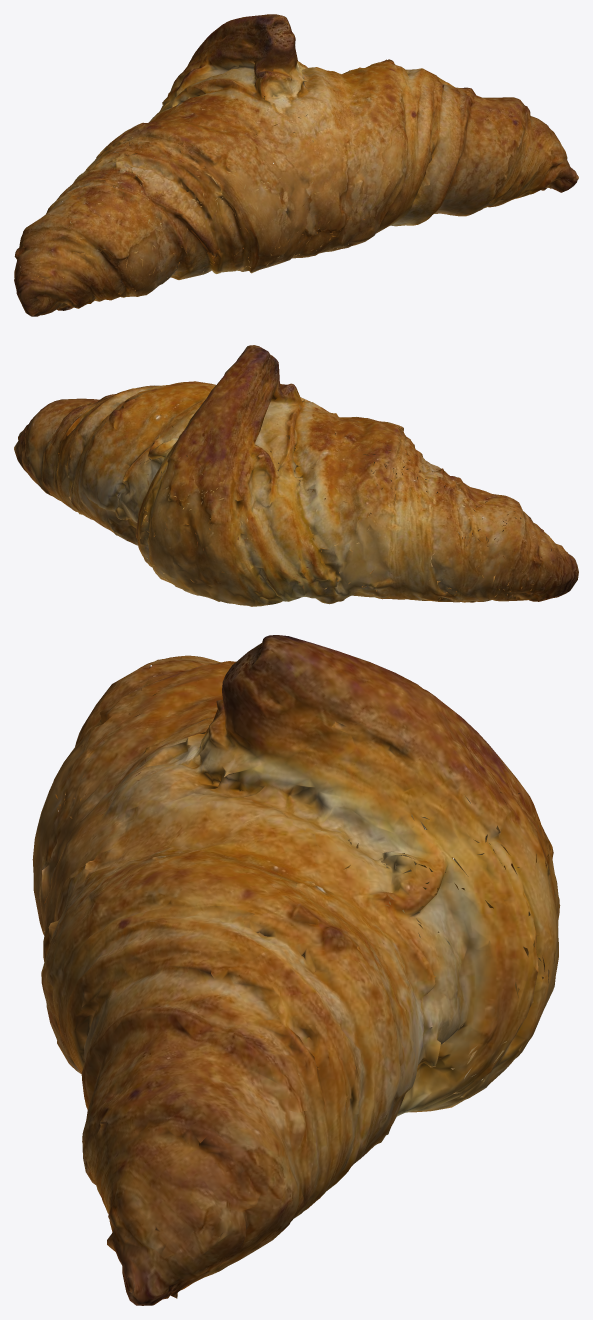
The picture shows the model from 3 angles, top to bottom: view 1: azimuth 30°, elevation 25°; view 2: azimuth 150°, elevation 25°; view 3: azimuth 270°, elevation 25°; orthographic projection. The views are drawn at different scales.
Visible parts, largest first — view 1: Model; view 2: Model; view 3: Model.
Boxes of the visible parts, left/top/right/bottom form: Model: left=14, top=14, right=578, bottom=316; Model: left=14, top=345, right=578, bottom=606; Model: left=32, top=635, right=560, bottom=1305.
Size of the model in its own units: 0.12 by 0.0449 by 0.0496.
1 material, 1 textured.
